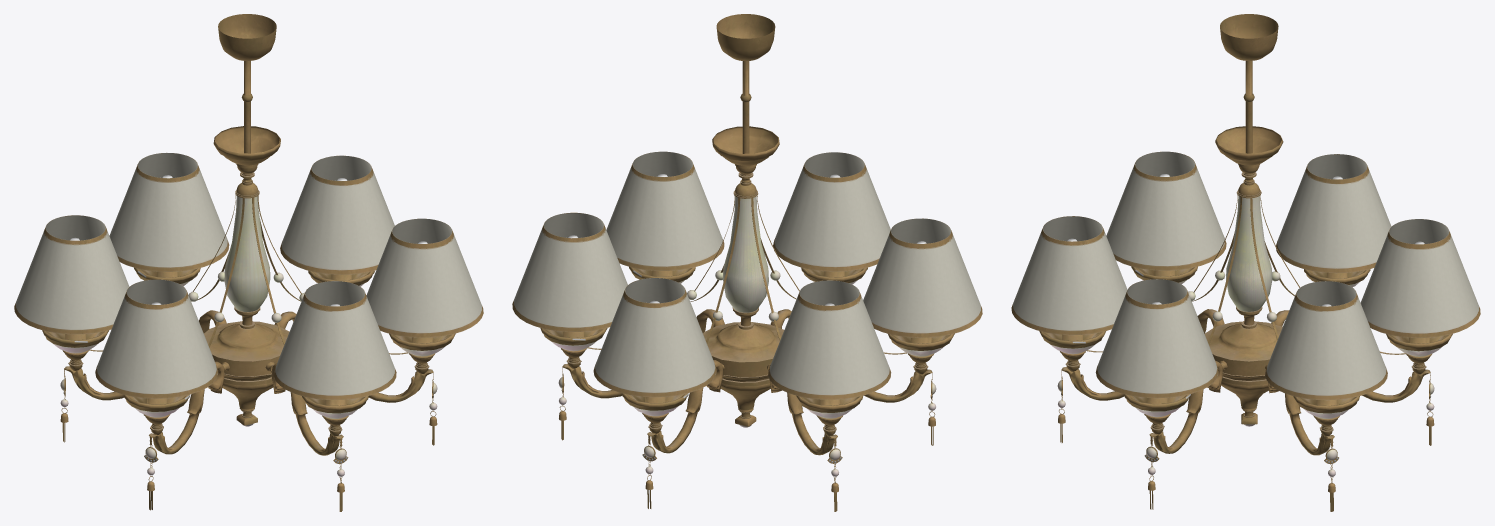
The model's file is LightOld.glb.
3 renders of one model, left to right at view 1: azimuth 30°, elevation 25°; view 2: azimuth 150°, elevation 25°; view 3: azimuth 270°, elevation 25°, orthographic.
Visible parts, largest first — view 1: lamp_19; view 2: lamp_19; view 3: lamp_19.
Part boxes in pixels (<box>): lamp_19: <box>14,14,483,511</box>; lamp_19: <box>512,14,982,511</box>; lamp_19: <box>1011,14,1480,511</box>.
Bounding box in the file's own units: 0.7465 × 0.7983 × 0.8155.
2 materials, 1 textured.
